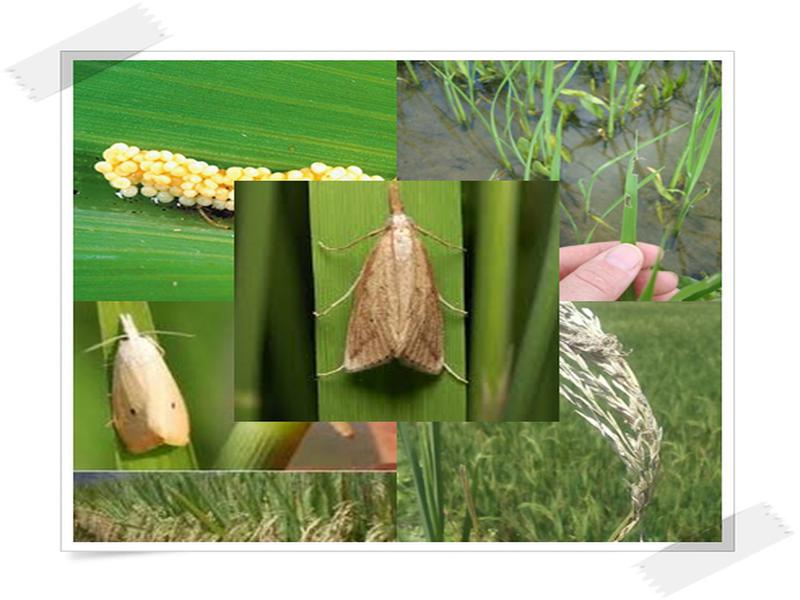Paddy_stemborer: (336, 187, 464, 398), (87, 308, 222, 454)
